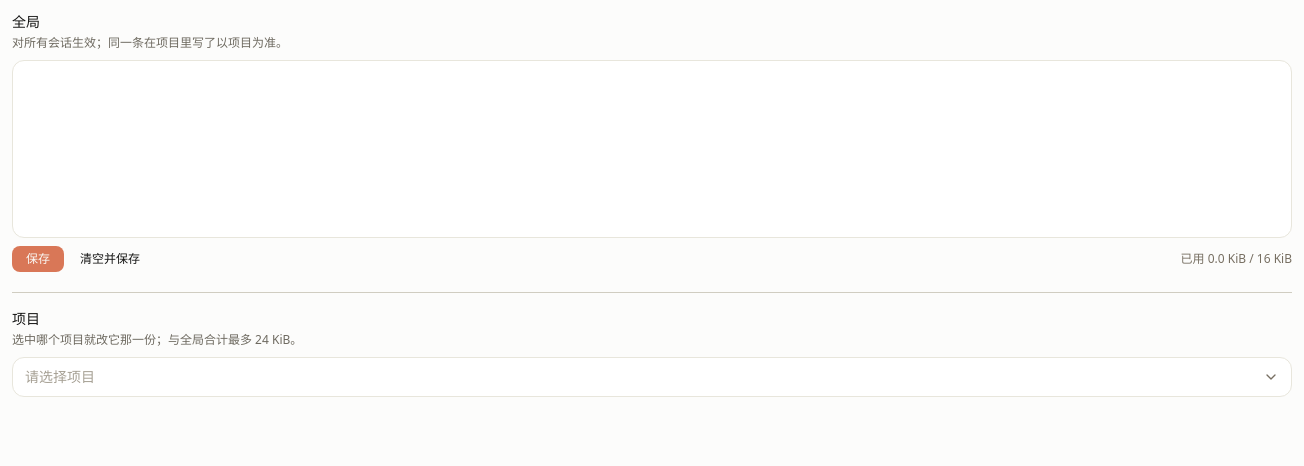
记忆指令（「记忆」栏里的第三块） › 落盘失败：行内给原因（不假装已保存），草稿留着
The width and height of the screenshot is (1304, 466).
Type "没写进去的" into the text box named "全局记忆指令". click: {"x": 652, "y": 149}
box: [12, 60, 1292, 238]
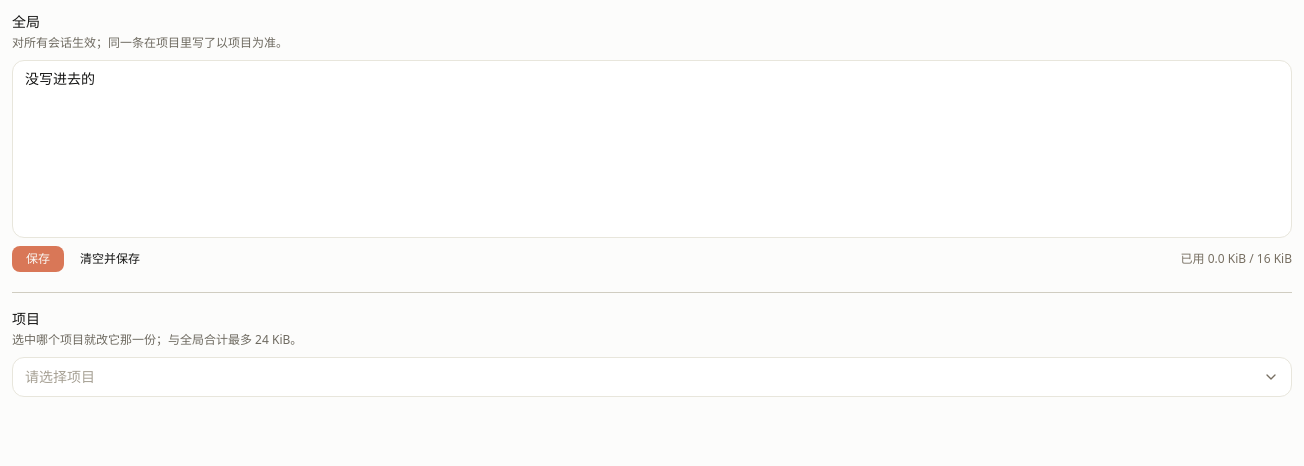
Click the button "保存". click: {"x": 38, "y": 259}
box: [12, 246, 64, 272]
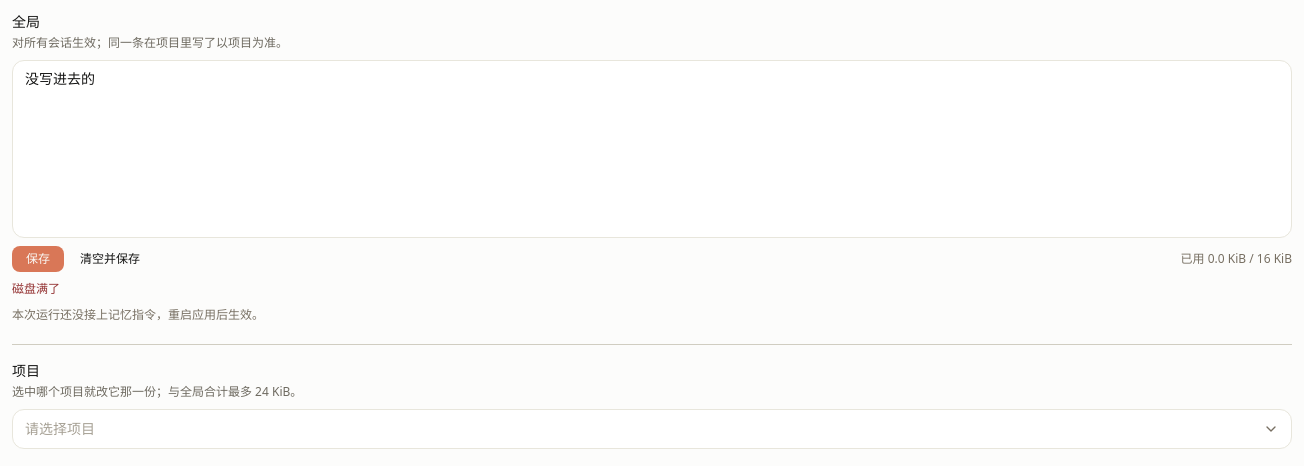
Result: the message with test id "rules-error" reads "磁盘满了" at [12, 280, 60, 297]
